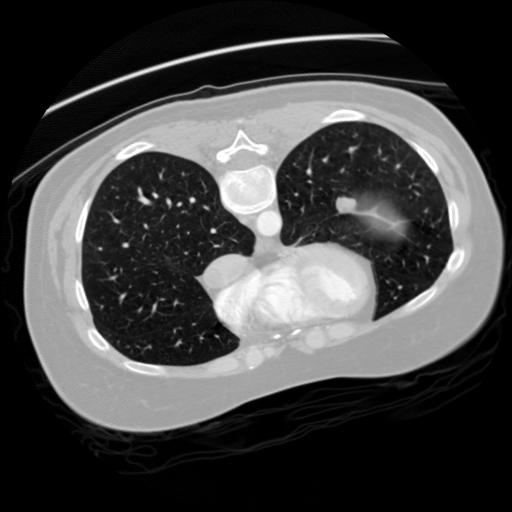nodule: (331, 193, 359, 221)
